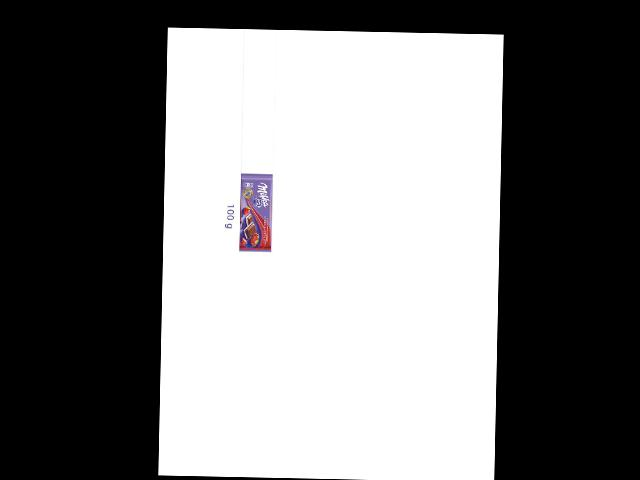chocolate: (235, 173, 273, 252)
